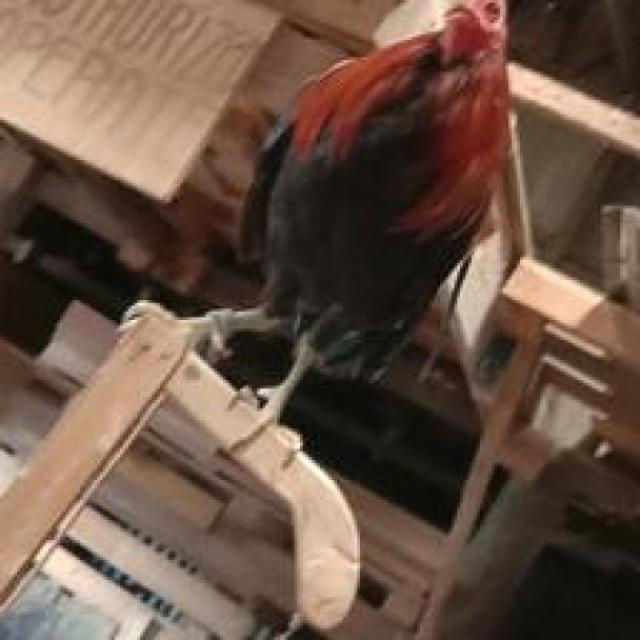Chicken: (203, 0, 585, 488)
